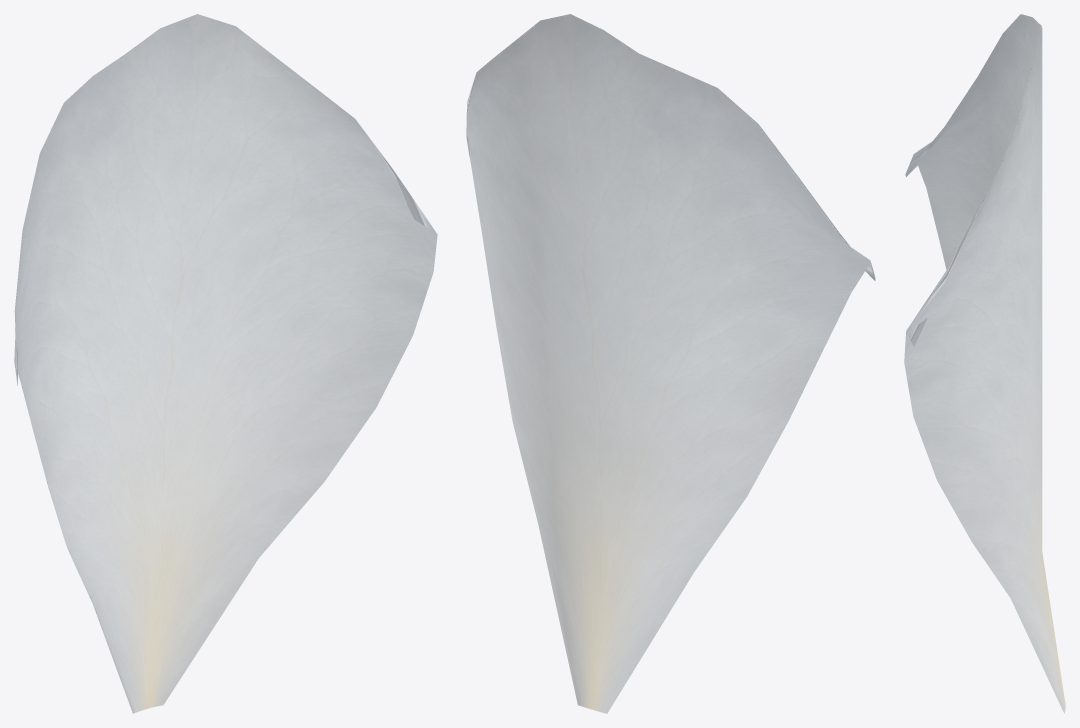
The model's file is inner_02.glb.
3 renders of one model, left to right at view 1: azimuth 30°, elevation 25°; view 2: azimuth 150°, elevation 25°; view 3: azimuth 270°, elevation 25°, orthographic. The views are drawn at different scales.
Parts seen in each view (by area): view 1: inner_02; view 2: inner_02; view 3: inner_02.
Boxes of the visible parts, left/top/right/bottom form: inner_02: left=14, top=14, right=437, bottom=713; inner_02: left=466, top=14, right=875, bottom=713; inner_02: left=904, top=14, right=1065, bottom=713.
Bounding box in the file's own units: 0.0397 × 0.0629 × 0.0134.
1 material, 1 textured.
